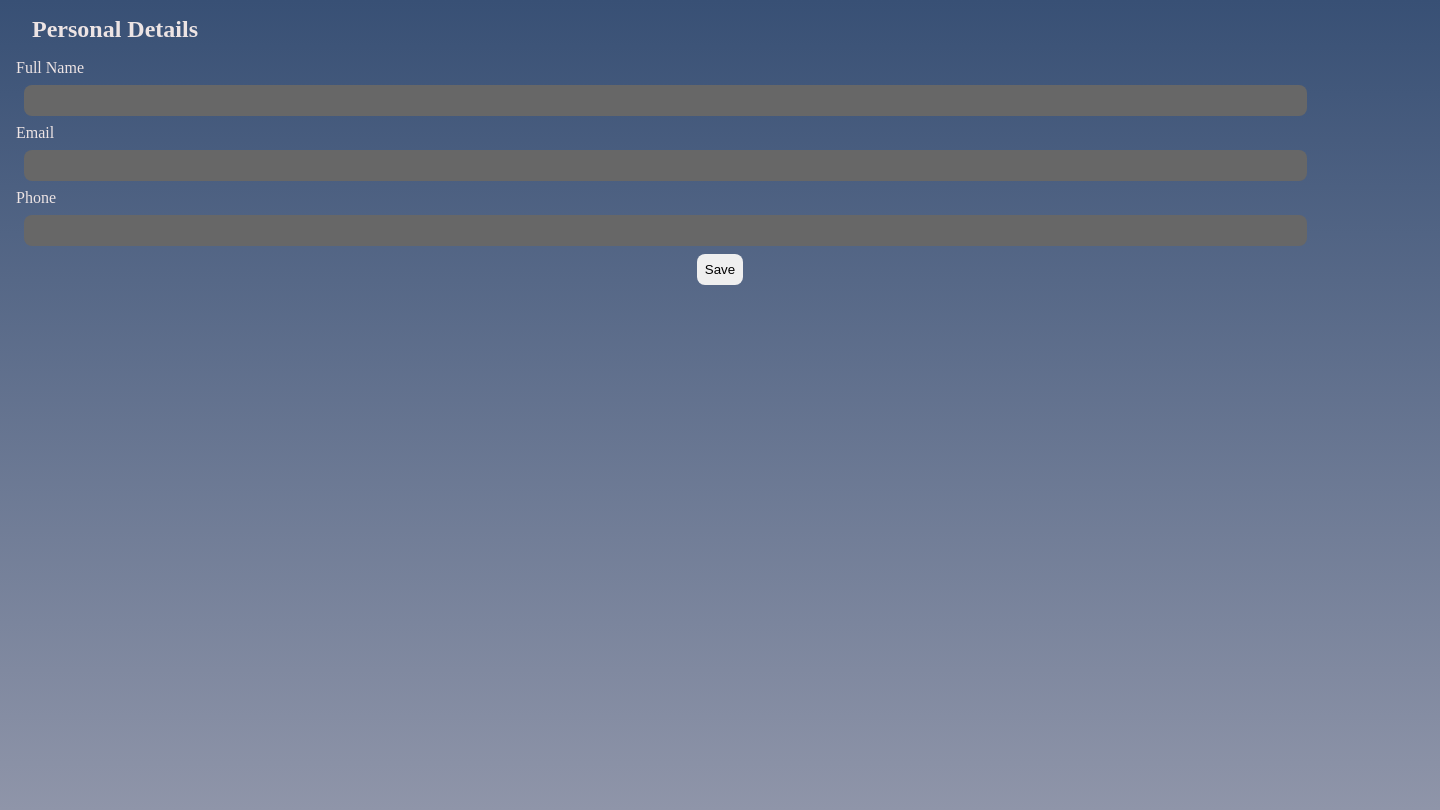
Test: shows validation message when required fields are empty
The image size is (1440, 810).
Click the button "Save": coordinates (720, 270) [697,254,743,285]
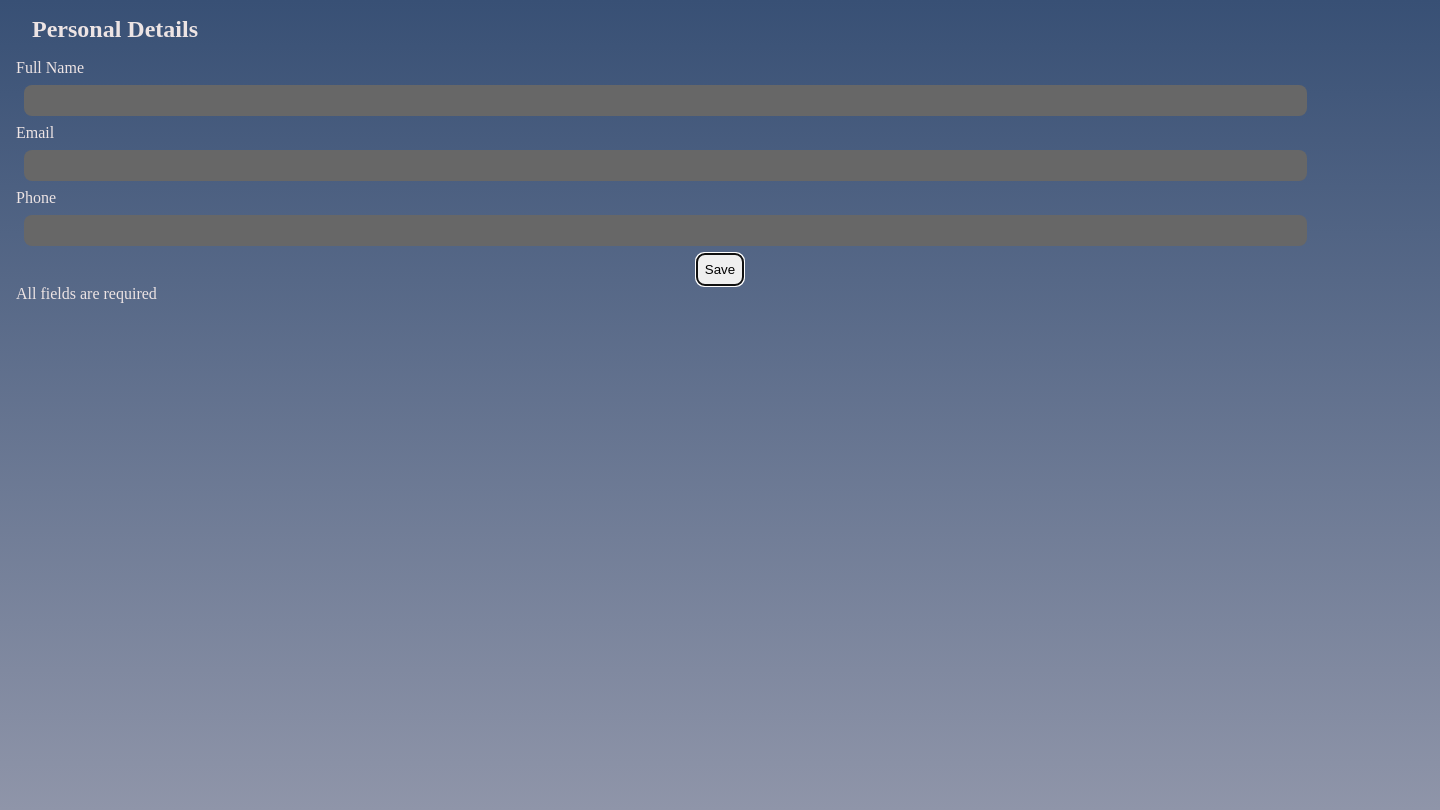
Now the text "All fields are required" is shown, box [16,285,157,302]
